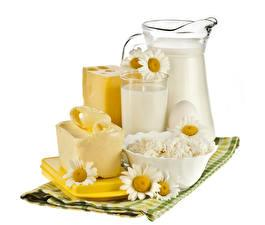chamomile: (127, 172, 157, 197), (63, 161, 92, 185), (140, 51, 165, 78), (180, 121, 208, 140), (157, 173, 178, 197), (125, 51, 144, 74)
